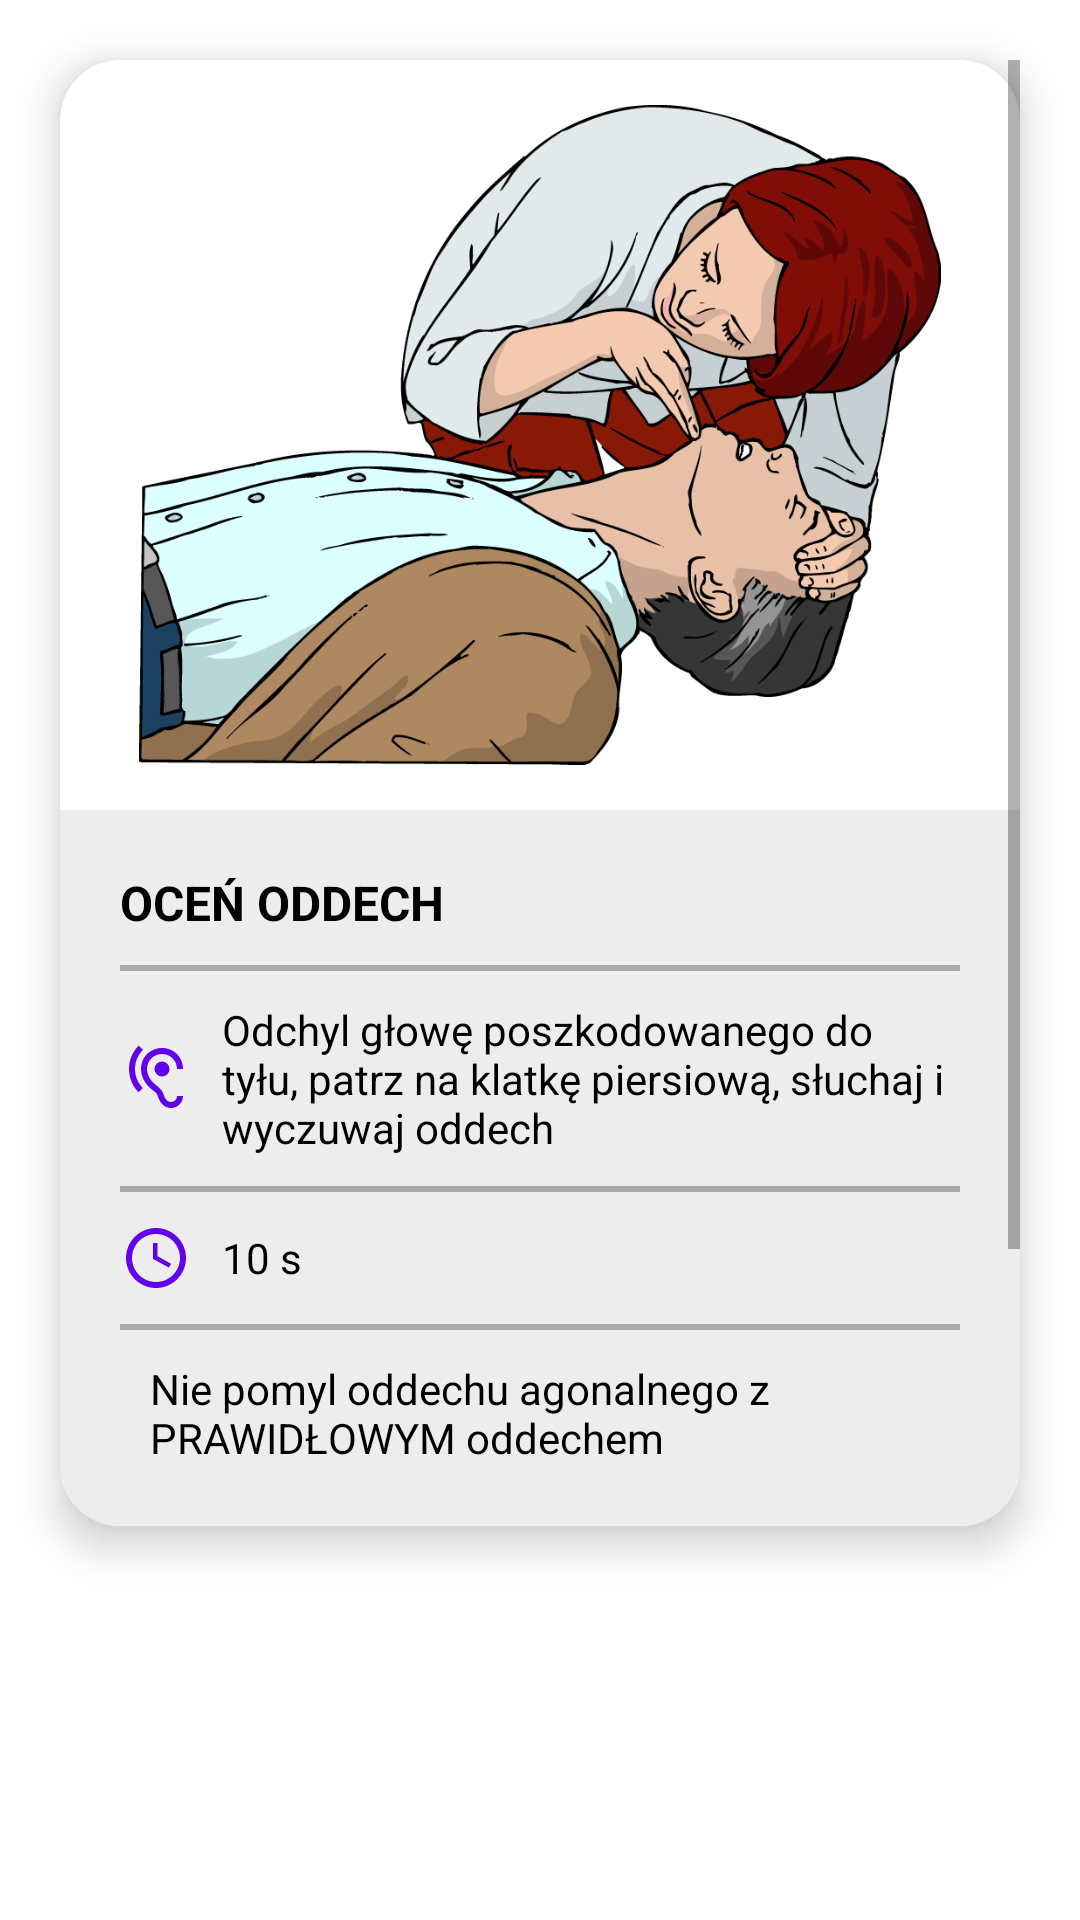

Where to tap for icons on this 1080px x 1920px app screen, as (x=x, y=y):
clock time four: (x=156, y=1258)
ear hearing: (x=156, y=1076)
